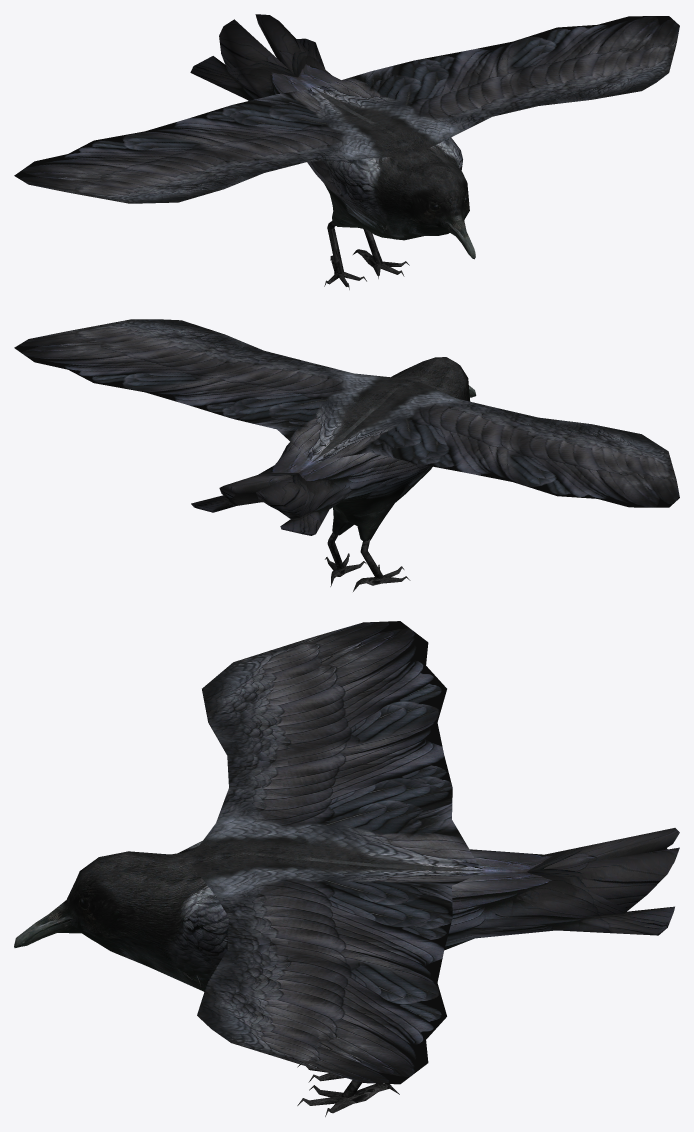
The model's file is crow.obj.
The picture shows the model from 3 angles, top to bottom: view 1: azimuth 30°, elevation 25°; view 2: azimuth 150°, elevation 25°; view 3: azimuth 270°, elevation 25°; orthographic projection. The views are drawn at different scales.
Visible parts, largest first — view 1: OBJ_Crow; view 2: OBJ_Crow; view 3: OBJ_Crow.
Boxes of the visible parts, x1,y1,x2,y2 form: OBJ_Crow: (14,14,679,289); OBJ_Crow: (14,319,679,591); OBJ_Crow: (14,621,679,1116).
Bounding box in the file's own units: 156 × 38.79 × 94.58.
1 material, 1 textured.
